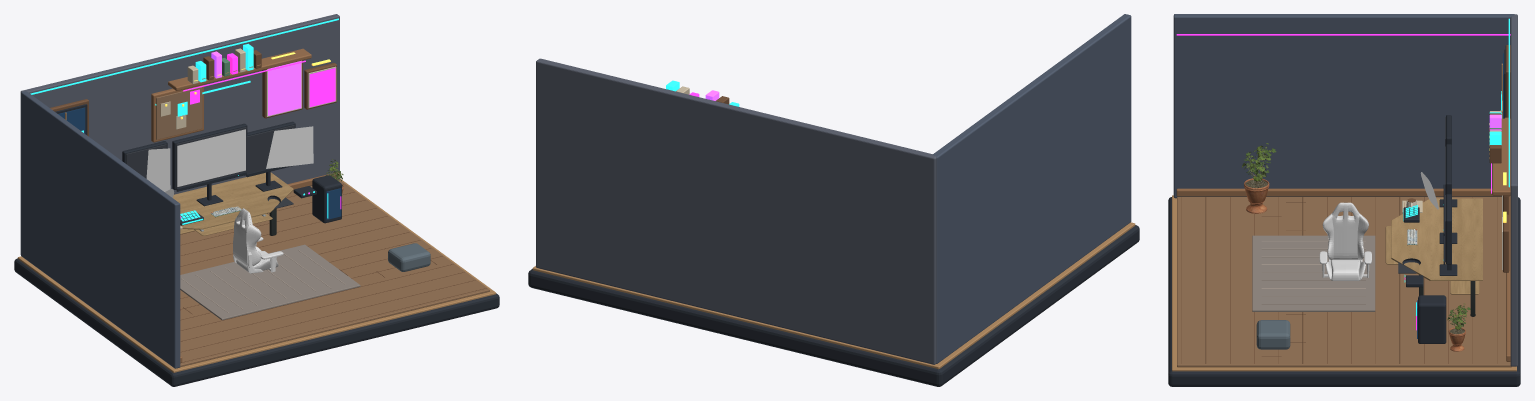
File: om-cyberpunk-studio.glb
3 views of the same model, side by side, from view 1: azimuth 30°, elevation 25°; view 2: azimuth 150°, elevation 25°; view 3: azimuth 270°, elevation 25° (orthographic). The views are drawn at different scales.
Parts seen in each view (by area): view 1: Static Blue charcoal plaster.007, Static Warm oak floor.007, Static Warm slate plaster.007, Static Graphite metal.007, Static Muted rug linen.007, CC0 APEX computer desk, Static Dark wood edge.007, ProjectPortfolio, Static Desk oak.007, Static Soft charcoal.007, Static Honey walnut.007, Permissioned ergonomic studio chair (+12 smaller); view 2: Static Warm slate plaster.007, Static Blue charcoal plaster.007, Static Graphite metal.007, Static Desk oak.007; view 3: Static Blue charcoal plaster.007, Static Warm oak floor.007, Static Graphite metal.007, Static Muted rug linen.007, CC0 APEX computer desk, Static Honey walnut.007, Static Dark wood edge.007, Permissioned ergonomic studio chair, Static Warm slate plaster.007, Static Desk oak.007, CC0 studio plant, Static Chair upholstery.007 (+4 smaller).
Part boxes in pixels (x1=…): Static Blue charcoal plaster.007: x1=21, y1=91, x2=180, y2=368; Static Warm oak floor.007: x1=180, y1=179, x2=489, y2=367; Static Warm slate plaster.007: x1=20, y1=14, x2=339, y2=254; Static Graphite metal.007: x1=14, y1=104, x2=499, y2=386; Static Muted rug linen.007: x1=180, y1=244, x2=360, y2=320; CC0 APEX computer desk: x1=173, y1=172, x2=293, y2=235; Static Dark wood edge.007: x1=50, y1=50, x2=486, y2=362; ProjectPortfolio: x1=177, y1=129, x2=245, y2=186; Static Desk oak.007: x1=17, y1=64, x2=496, y2=372; Static Soft charcoal.007: x1=126, y1=125, x2=294, y2=208; Static Honey walnut.007: x1=151, y1=48, x2=339, y2=363; Permissioned ergonomic studio chair: x1=233, y1=208, x2=283, y2=273; Static Warm slate plaster.007: x1=536, y1=58, x2=936, y2=364; Static Blue charcoal plaster.007: x1=932, y1=14, x2=1131, y2=363; Static Graphite metal.007: x1=528, y1=225, x2=1139, y2=386; Static Desk oak.007: x1=532, y1=222, x2=1135, y2=369; Static Blue charcoal plaster.007: x1=1173, y1=14, x2=1514, y2=198; Static Warm oak floor.007: x1=1177, y1=197, x2=1511, y2=367; Static Graphite metal.007: x1=1168, y1=49, x2=1520, y2=386; Static Muted rug linen.007: x1=1252, y1=235, x2=1375, y2=311; CC0 APEX computer desk: x1=1385, y1=198, x2=1482, y2=316; Static Honey walnut.007: x1=1176, y1=117, x2=1510, y2=361; Static Dark wood edge.007: x1=1181, y1=45, x2=1510, y2=363; Permissioned ergonomic studio chair: x1=1319, y1=202, x2=1371, y2=280; Static Warm slate plaster.007: x1=1510, y1=14, x2=1517, y2=366; Static Desk oak.007: x1=1172, y1=63, x2=1516, y2=371; CC0 studio plant: x1=1242, y1=143, x2=1276, y2=213; Static Chair upholstery.007: x1=1256, y1=320, x2=1290, y2=349.
Bounding box in the file's own units: 6.3 × 3.32 × 5.29.
34 materials, 11 textured.
